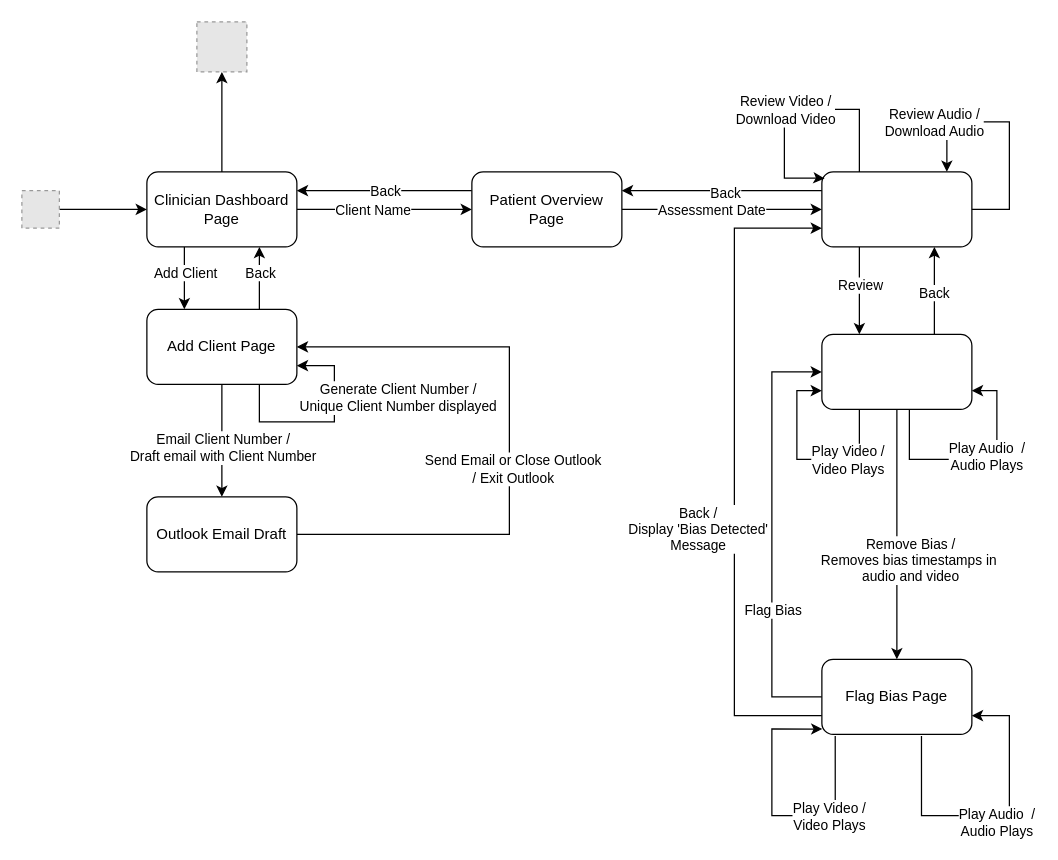
Some shapes in this 1058 by 860 pixel diagram are drawn without their labels. Grey dashed boxes stand in for pictures. The shapes that lost their labels are listed below. From the top down, each one's centre as x and y in pixels, then its label:
At (896,209): "Patient Assessment Results Analysis Page".
At (896,371): "Bias Review Page".
